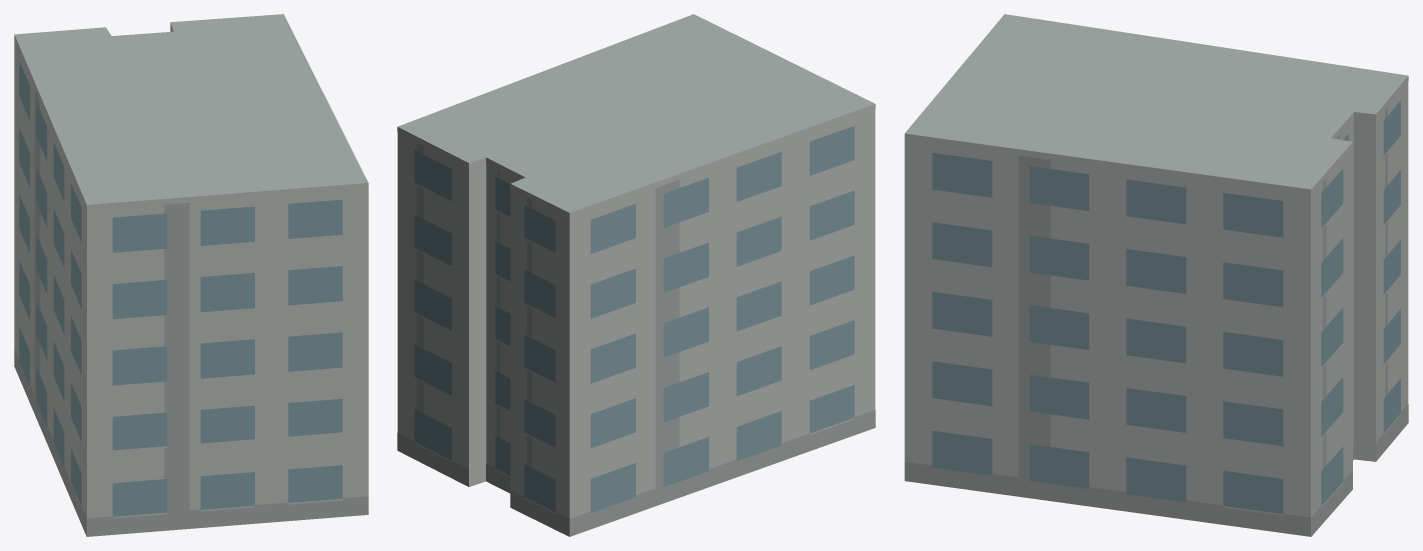
The model's file is survey-upis-32882608.glb.
3 views of the same model, side by side, from view 1: azimuth 30°, elevation 25°; view 2: azimuth 150°, elevation 25°; view 3: azimuth 270°, elevation 25° (orthographic). The views are drawn at different scales.
Visible parts, largest first — view 1: survey-upis-32882608.tmp; view 2: survey-upis-32882608.tmp; view 3: survey-upis-32882608.tmp.
Part boxes in pixels (x1,y1,x2,y2): survey-upis-32882608.tmp: (14,14,368,536); survey-upis-32882608.tmp: (397,14,875,536); survey-upis-32882608.tmp: (904,14,1408,536).
Size of the model in its own units: 14.84 by 13.7 by 18.01.
